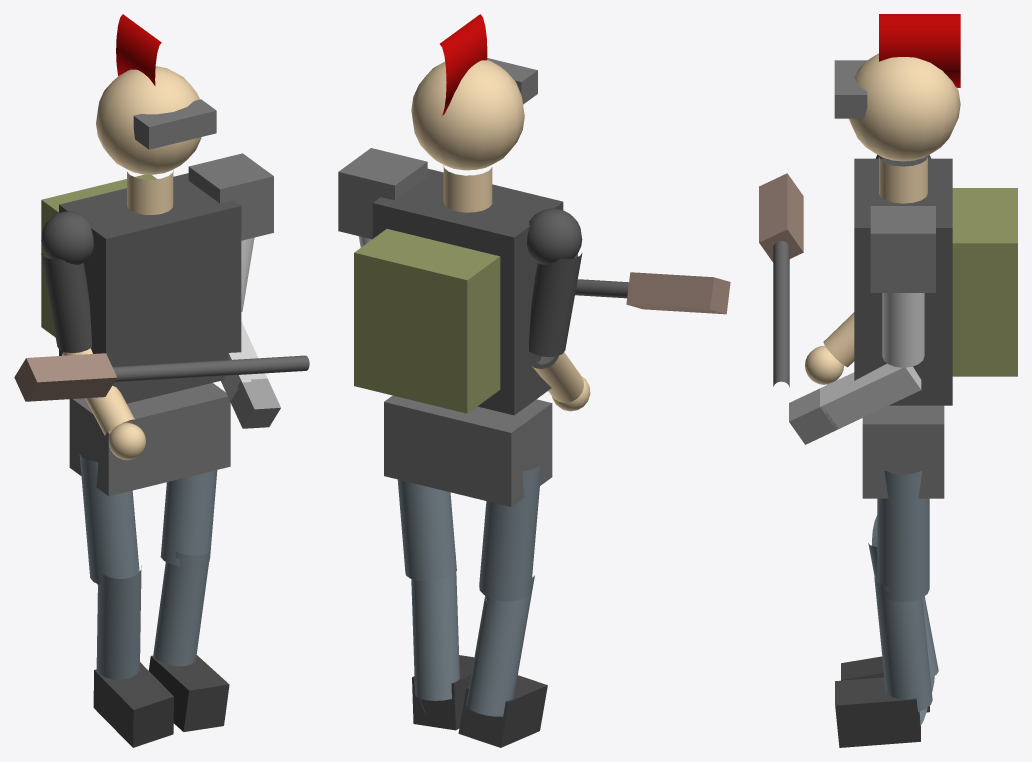
The model's file is WastelandHero.glb.
3 renders of one model, left to right at view 1: azimuth 30°, elevation 25°; view 2: azimuth 150°, elevation 25°; view 3: azimuth 270°, elevation 25°, orthographic. The views are drawn at different scales.
Visible parts, largest first — view 1: torso, root, head, leg_l_upper, leg_r_lower, foot_l, leg_l_lower, arm_r_shoulder, leg_r_upper, shotgun_stock, foot_r, arm_l_upper (+11 smaller); view 2: backpack, root, torso, head, leg_l_upper, leg_r_lower, leg_l_lower, leg_r_upper, arm_r_shoulder, arm_l_upper, shotgun_stock, foot_l (+7 smaller); view 3: backpack, torso, head, root, leg_r_upper, arm_r_shoulder, leg_r_lower, foot_r, mohawk, arm_r_lower, shotgun_stock, arm_r_upper (+8 smaller).
Part boxes in pixels (x1,y1,x2,y2): torso: [59, 173, 241, 403]; root: [69, 383, 230, 496]; head: [96, 66, 201, 174]; leg_l_upper: [79, 454, 139, 585]; leg_r_lower: [153, 550, 210, 666]; foot_l: [93, 662, 173, 747]; leg_l_lower: [96, 563, 141, 679]; arm_r_shoulder: [188, 153, 273, 240]; leg_r_upper: [160, 470, 217, 566]; shotgun_stock: [14, 353, 117, 401]; foot_r: [148, 655, 229, 731]; arm_l_upper: [41, 254, 91, 353]; backpack: [354, 229, 500, 413]; root: [384, 395, 552, 506]; torso: [372, 168, 563, 415]; head: [411, 60, 524, 170]; leg_l_upper: [479, 463, 541, 602]; leg_r_lower: [411, 556, 459, 711]; leg_l_lower: [466, 575, 534, 716]; leg_r_upper: [397, 479, 456, 581]; arm_r_shoulder: [338, 148, 427, 239]; arm_l_upper: [529, 253, 582, 364]; shotgun_stock: [626, 272, 730, 314]; foot_l: [458, 675, 547, 747]; backpack: [952, 188, 1017, 376]; torso: [854, 158, 952, 405]; head: [849, 53, 960, 161]; root: [862, 405, 944, 498]; leg_r_upper: [877, 471, 929, 601]; arm_r_shoulder: [870, 206, 935, 292]; leg_r_lower: [874, 577, 932, 725]; foot_r: [835, 677, 920, 747]; mohawk: [879, 14, 960, 87]; arm_r_lower: [820, 363, 921, 429]; shotgun_stock: [759, 173, 803, 262]; arm_r_upper: [882, 293, 924, 367].
Size of the model in its own units: 1.09 by 2.42 by 0.7915.
